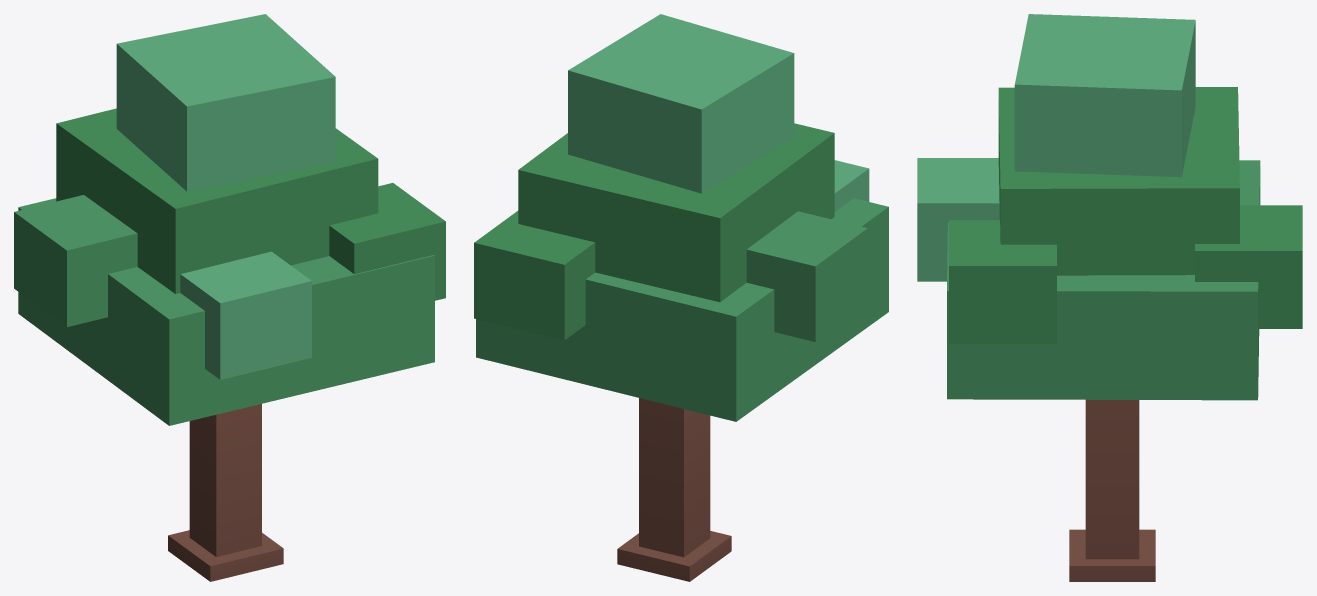
File: box-tree-l.glb
3 renders of one model, left to right at view 1: azimuth 30°, elevation 25°; view 2: azimuth 150°, elevation 25°; view 3: azimuth 270°, elevation 25°, orthographic. The views are drawn at different scales.
Parts seen in each view (by area): view 1: box-tree-l_body; view 2: box-tree-l_body; view 3: box-tree-l_body.
Part boxes in pixels (x1=…): box-tree-l_body: x1=14, y1=14, x2=445, y2=581; box-tree-l_body: x1=474, y1=14, x2=888, y2=581; box-tree-l_body: x1=917, y1=14, x2=1302, y2=581.
Bounding box in the file's own units: 5.3 × 7.99 × 5.47.
